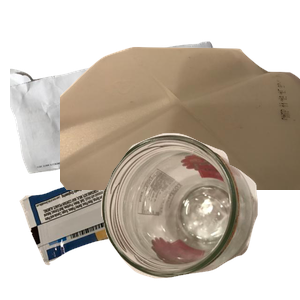glass: (98, 131, 300, 300)
paper: (10, 39, 236, 205)
plastic: (60, 44, 300, 224)
trash: (17, 123, 257, 300)
